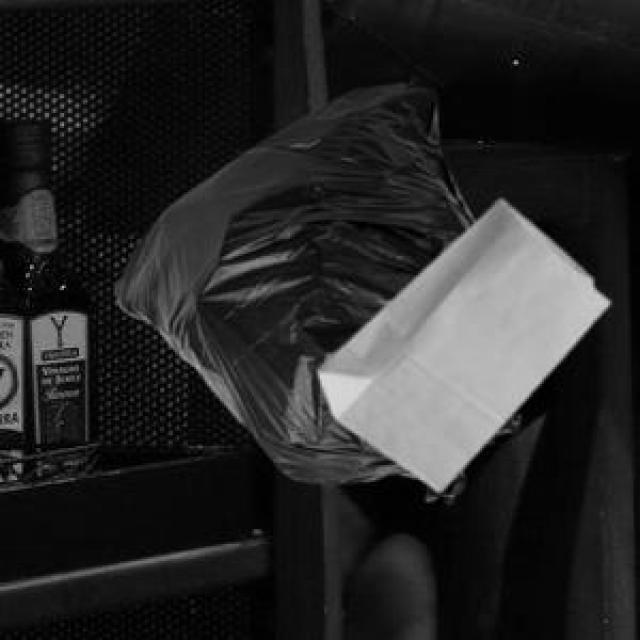miscellaneous trash: (111, 75, 516, 499)
paper: (314, 196, 606, 486)
